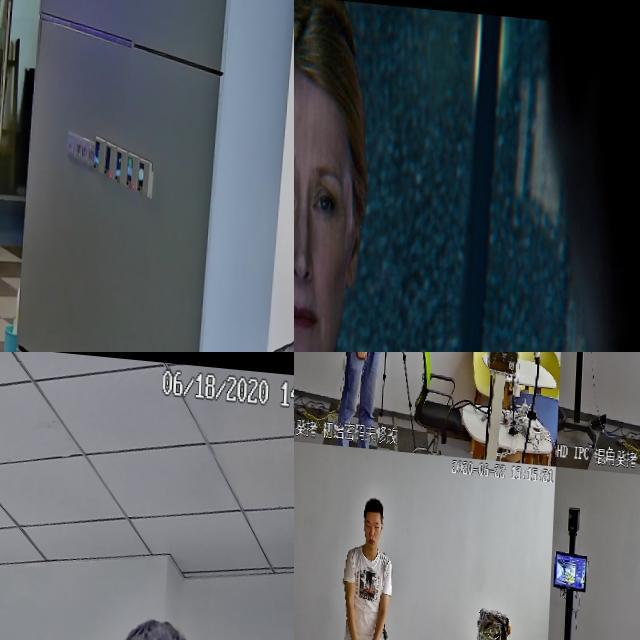gun-knife-thesis - v11 Yolov5 augmented: (294, 133, 361, 352), (405, 352, 430, 372)
